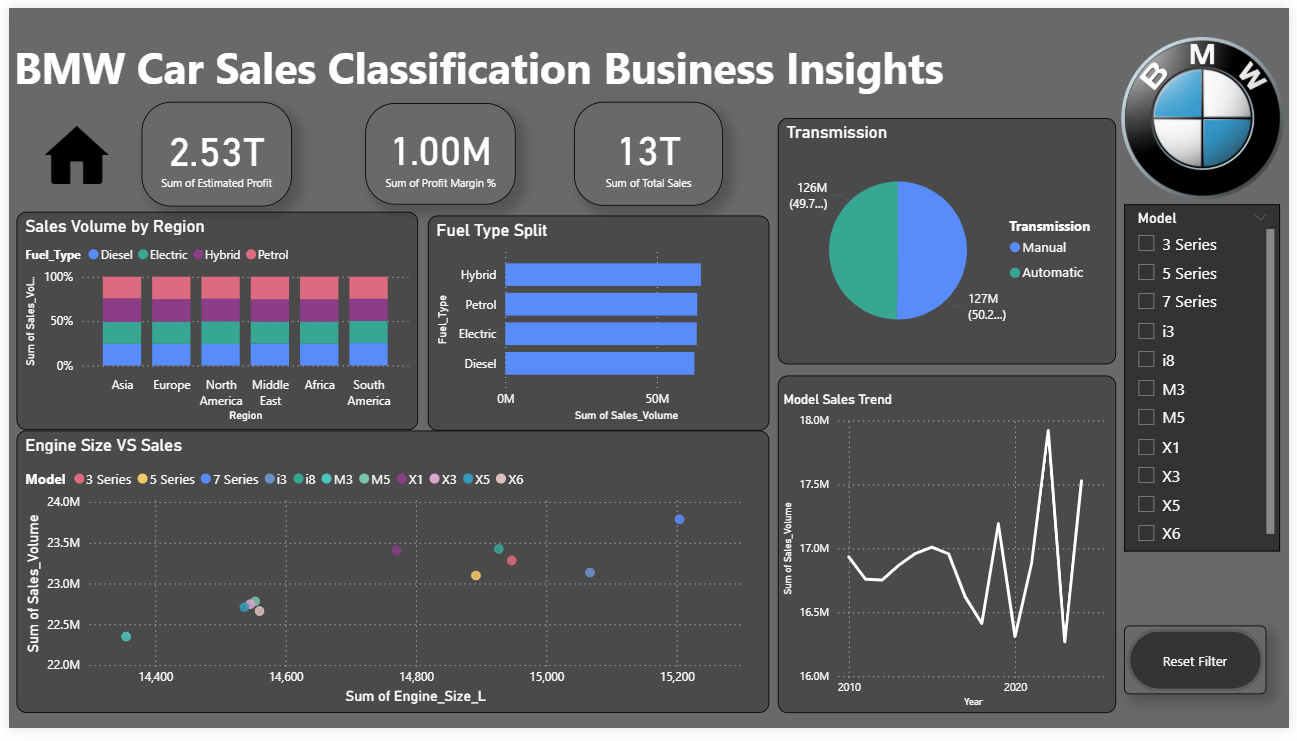

The dashboard page shown, as its layout file describes it:
{"tool":"powerbi","page":{"name":"Model Insights","canvas":[1280,720],"ordinal":1},"visuals":[{"type":"card","fields":{"Values":["Sum(BMW_Car_Sales_Cleaned.Estimated Profit)"]},"box":[132.5,93.8,150,105],"z":1000},{"type":"card","fields":{"Values":["Sum(BMW_Car_Sales_Cleaned.Profit Margin %)"]},"box":[356.2,95,150,101.2],"z":2000},{"type":"card","fields":{"Values":["Sum(BMW_Car_Sales_Cleaned.Total Sales)"]},"box":[565,93.8,148.8,103.8],"z":3000},{"type":"lineChart","title":"Model Sales Trend","fields":{"Category":["BMW_Car_Sales_Cleaned.Year"],"Y":["Sum(BMW_Car_Sales_Cleaned.Sales_Volume)"]},"box":[768.8,367.5,338.8,337.5],"z":4000},{"type":"hundredPercentStackedColumnChart","title":"Sales Volume by Region","fields":{"Category":["BMW_Car_Sales_Cleaned.Region"],"Series":["BMW_Car_Sales_Cleaned.Fuel_Type"],"Y":["Sum(BMW_Car_Sales_Cleaned.Sales_Volume)"]},"box":[7.5,203.8,401.2,218.8],"z":5000},{"type":"pieChart","title":"Transmission","fields":{"Y":["Sum(BMW_Car_Sales_Cleaned.Sales_Volume)"],"Category":["BMW_Car_Sales_Cleaned.Transmission"]},"box":[768.8,110,338.8,246.2],"z":7000},{"type":"clusteredBarChart","title":"Fuel Type Split","fields":{"Y":["Sum(BMW_Car_Sales_Cleaned.Sales_Volume)"],"Category":["BMW_Car_Sales_Cleaned.Fuel_Type"]},"box":[418.8,207.5,341.2,215],"z":8000},{"type":"scatterChart","title":"Engine Size VS Sales","fields":{"X":["Sum(BMW_Car_Sales_Cleaned.Engine_Size_L)"],"Y":["Sum(BMW_Car_Sales_Cleaned.Sales_Volume)"],"Series":["BMW_Car_Sales_Cleaned.Model"]},"box":[7.5,422.5,752.5,282.5],"z":9000},{"type":"textbox","box":[0,25,962.5,85],"z":10000},{"type":"slicer","fields":{"Values":["BMW_Car_Sales_Cleaned.Model"]},"box":[1115,196.2,156.2,347.5],"z":11000},{"type":"image","box":[1107.5,16.2,172.5,187.5],"z":15000},{"type":"image","box":[23.8,103.8,88.8,86.2],"z":17001},{"type":"actionButton","box":[1115,617.5,142.5,68.8],"z":17002}]}

Visuals, with their boxes in screenshot pixels (x1, y1, x2, y2), scaled from the page's 1280x720 canvas onto the 1297x741 screenshot:
card - Sum(BMW_Car_Sales_Cleaned.Estimated Profit): 134, 97, 286, 205
card - Sum(BMW_Car_Sales_Cleaned.Profit Margin %): 361, 98, 513, 202
card - Sum(BMW_Car_Sales_Cleaned.Total Sales): 573, 97, 723, 203
"Model Sales Trend" lineChart: 779, 378, 1122, 726
"Sales Volume by Region" hundredPercentStackedColumnChart: 8, 210, 414, 435
"Transmission" pieChart: 779, 113, 1122, 367
"Fuel Type Split" clusteredBarChart: 424, 214, 770, 435
"Engine Size VS Sales" scatterChart: 8, 435, 770, 726
textbox: 0, 26, 975, 113
slicer - BMW_Car_Sales_Cleaned.Model: 1130, 202, 1288, 560
image: 1122, 17, 1296, 210
image: 24, 107, 114, 196
actionButton: 1130, 636, 1274, 706
